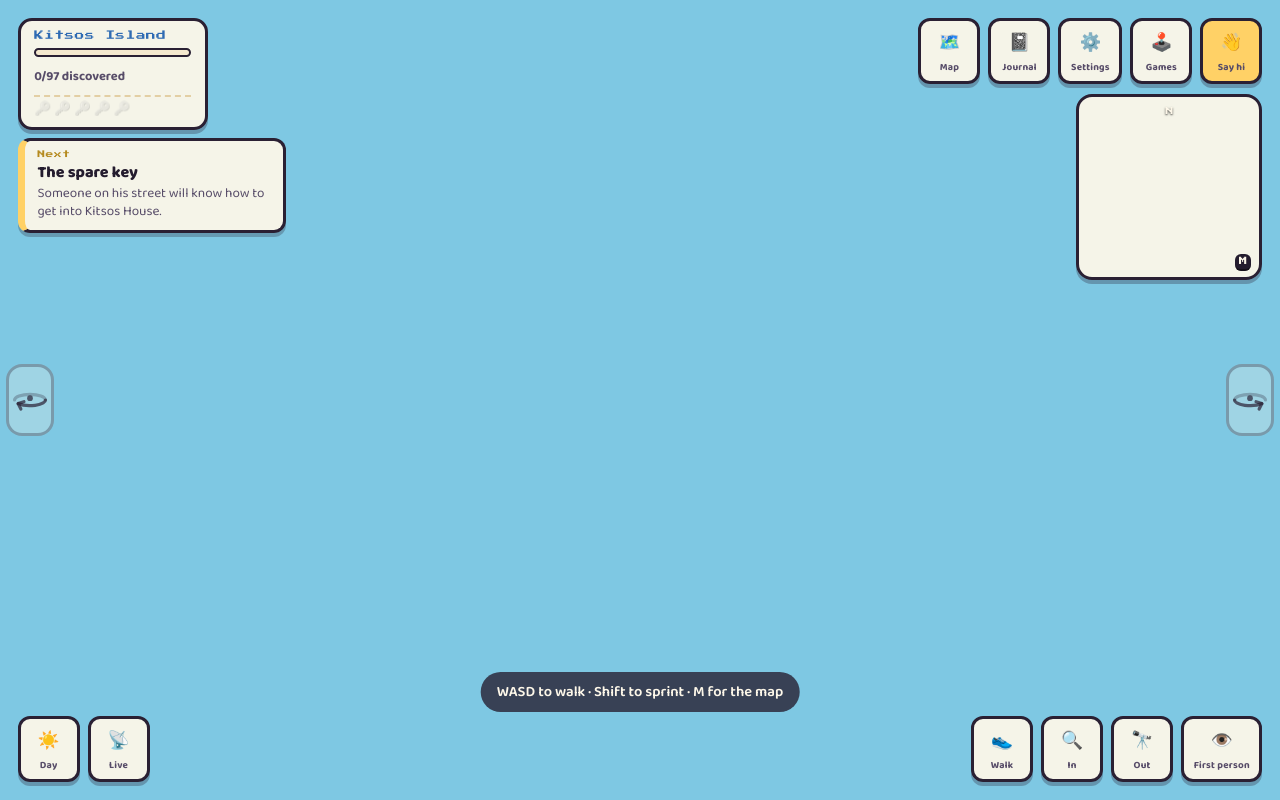
Scenario: the HUD on a big screen › stands the zoom down while he is looking out of his own eyes
This screenshot has width=1280, height=800.
Click the button "👁️ First person".
click(1222, 749)  # box [1181,716,1262,782]
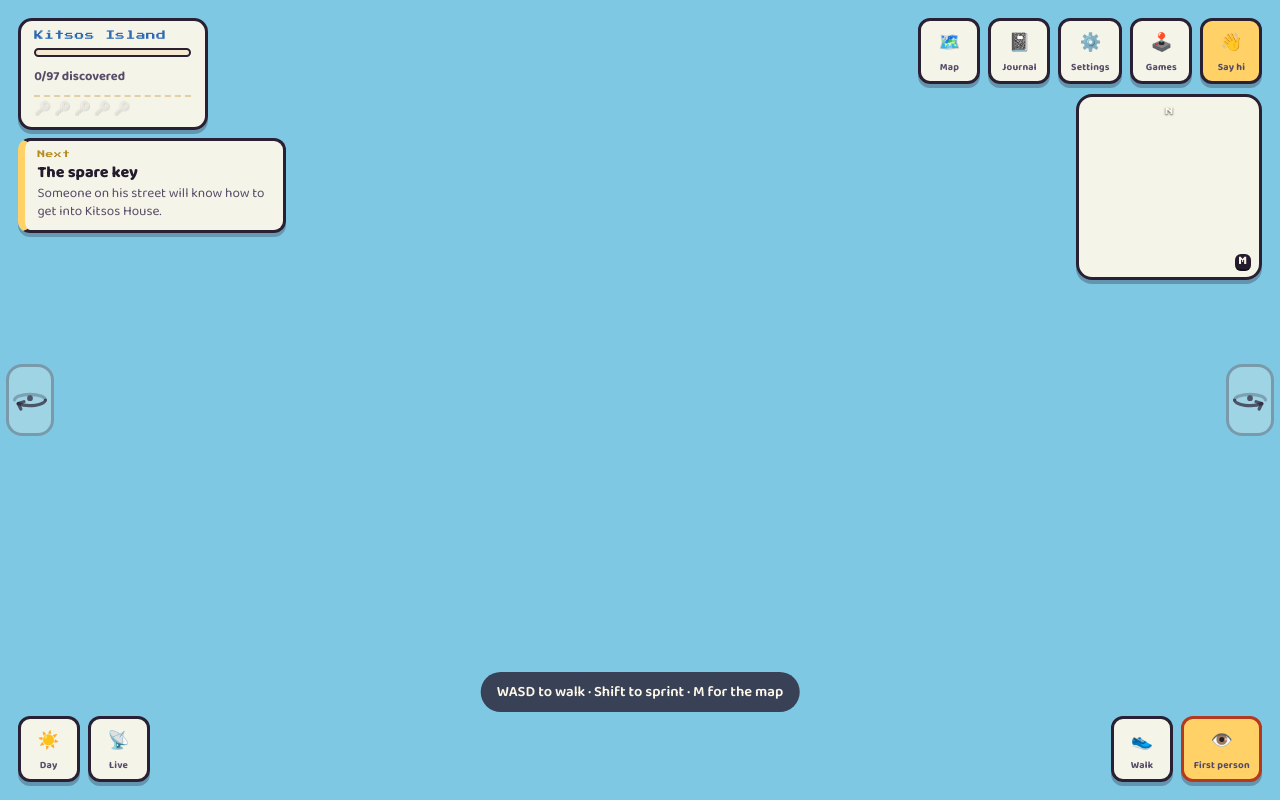
Expected: the button "🔍" is gone
Click the button "👁️ First person".
click(1222, 749)  # box [1181,716,1262,782]
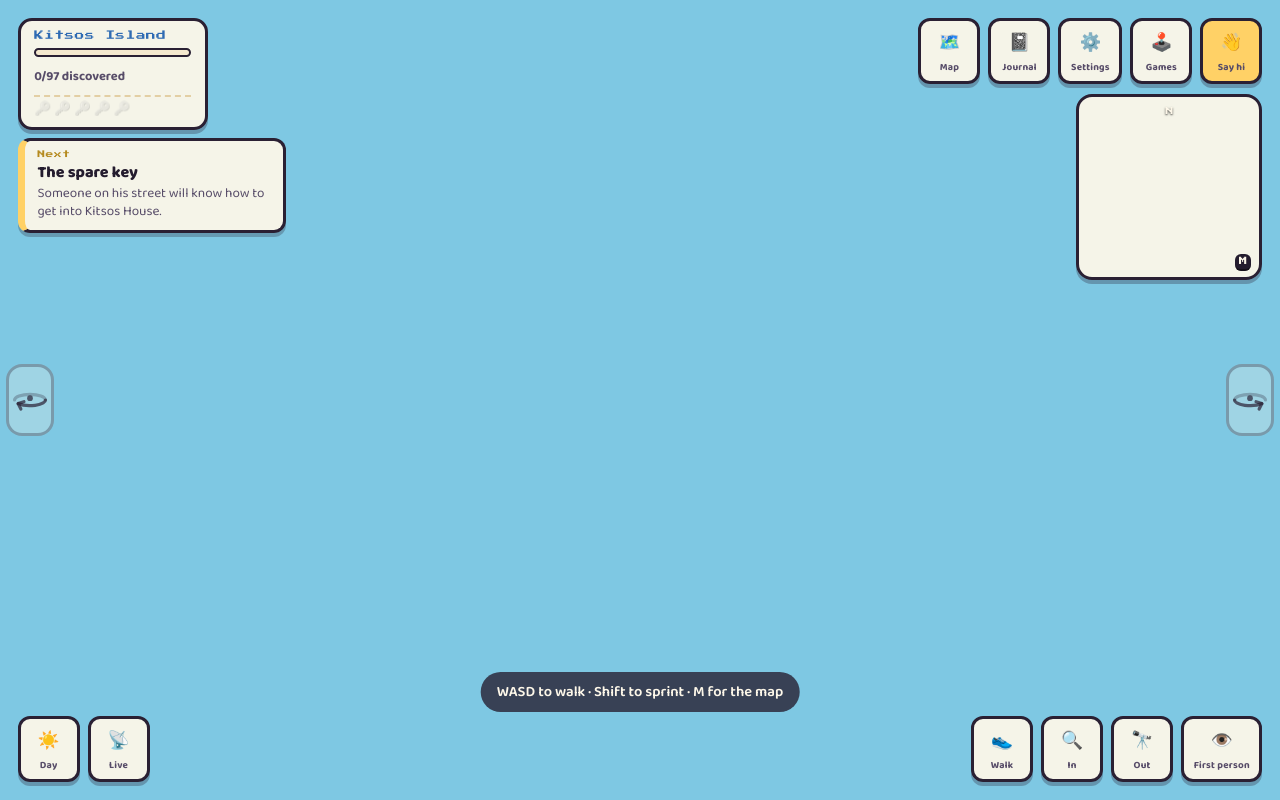
Expected: the button "🔍 In" is shown, [1041,716,1103,782]
